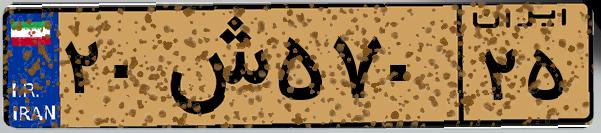0: (385, 28, 445, 110), (110, 28, 158, 98)
2: (57, 26, 110, 100), (475, 38, 525, 113)
5: (270, 28, 330, 110), (525, 38, 570, 115)
7: (330, 28, 385, 110)
ش: (158, 12, 270, 120)
